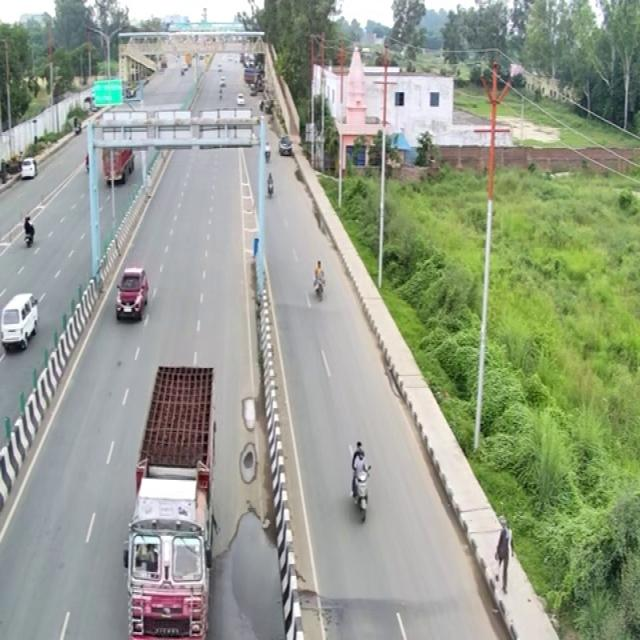car: (0, 215, 56, 265), (150, 198, 202, 242)
